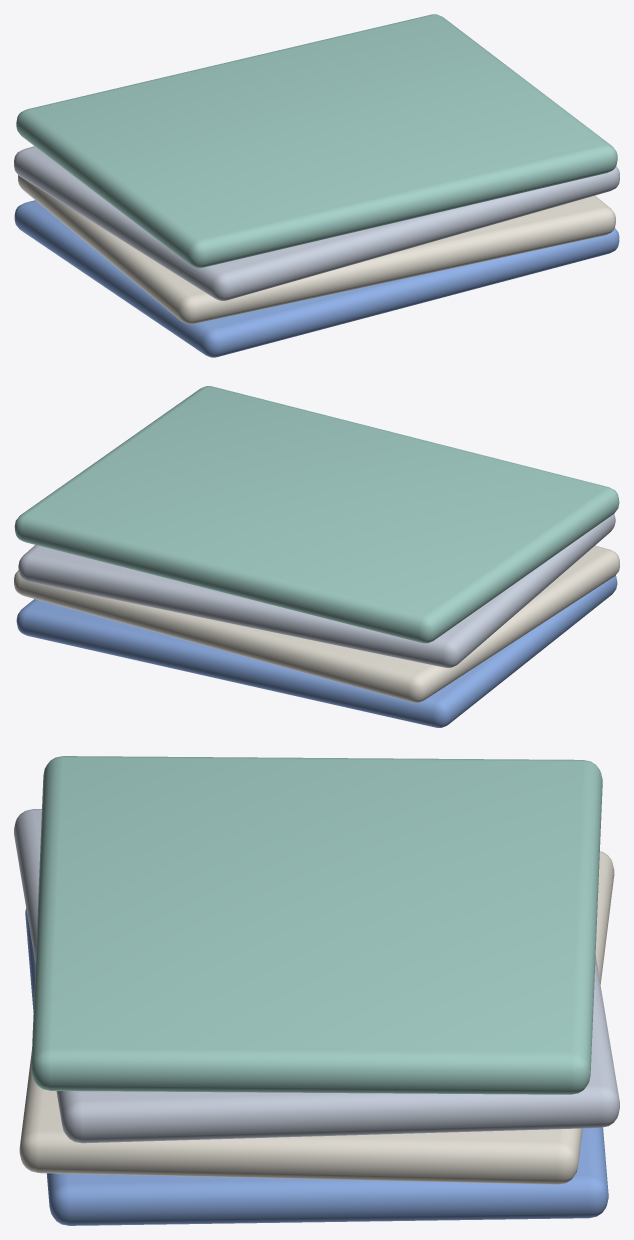
Rendered from Chiffons.fbx.
The picture shows the model from 3 angles, top to bottom: view 1: azimuth 30°, elevation 25°; view 2: azimuth 150°, elevation 25°; view 3: azimuth 270°, elevation 25°; orthographic projection. The views are drawn at different scales.
Visible parts, largest first — view 1: Chiffon_3, Chiffon_2, Chiffon_0, Chiffon_1; view 2: Chiffon_3, Chiffon_0, Chiffon_1, Chiffon_2; view 3: Chiffon_3, Chiffon_2, Chiffon_1, Chiffon_0.
Boxes of the visible parts, box(x1,y1,x2,y2) form: Chiffon_3: box(16, 14, 617, 267); Chiffon_2: box(14, 146, 619, 300); Chiffon_0: box(14, 200, 619, 357); Chiffon_1: box(18, 175, 615, 324); Chiffon_3: box(14, 386, 619, 643); Chiffon_0: box(16, 575, 617, 727); Chiffon_1: box(14, 545, 619, 702); Chiffon_2: box(18, 514, 615, 667); Chiffon_3: box(31, 756, 602, 1094); Chiffon_2: box(14, 808, 619, 1143); Chiffon_1: box(19, 851, 614, 1184); Chiffon_0: box(25, 908, 608, 1225).
Size of the model in its own units: 0.2723 by 0.067 by 0.2167.
